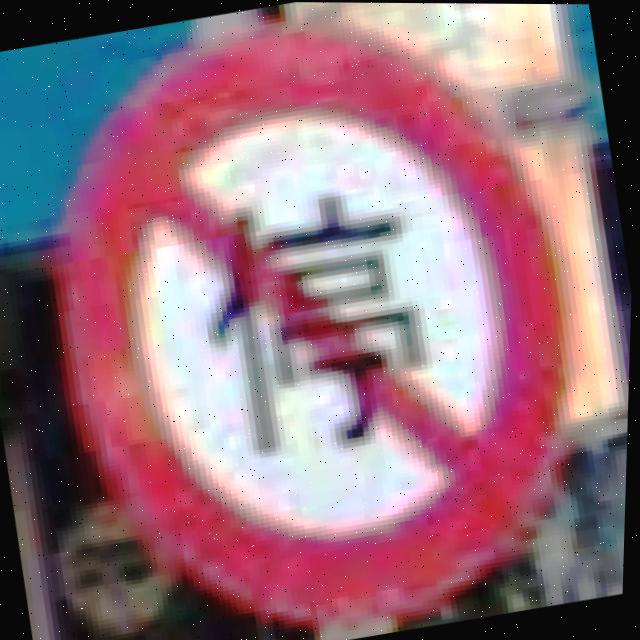nopark: (2, 0, 627, 640)
